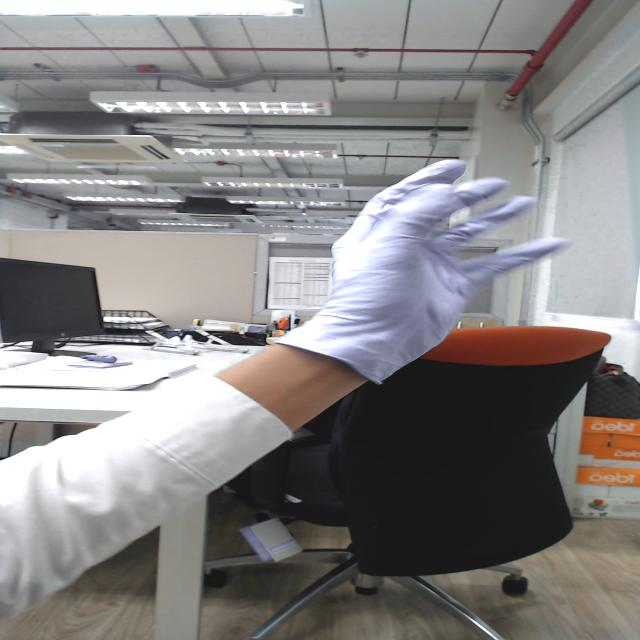glove: (313, 155, 568, 321)
